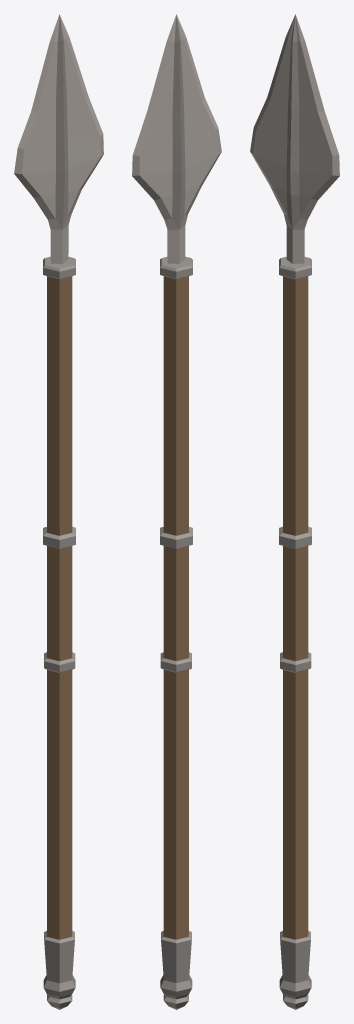
The model's file is SM_pwe_fantasy_spear_06.fbx.
3 views of the same model, side by side, from view 1: azimuth 30°, elevation 25°; view 2: azimuth 210°, elevation 25°; view 3: azimuth 330°, elevation 25° (orthographic).
Parts seen in each view (by area): view 1: SM_pwe_fantasy_spear_06; view 2: SM_pwe_fantasy_spear_06; view 3: SM_pwe_fantasy_spear_06.
Part boxes in pixels (x1,y1,x2,y2): SM_pwe_fantasy_spear_06: (14, 14, 103, 1009); SM_pwe_fantasy_spear_06: (132, 14, 221, 1009); SM_pwe_fantasy_spear_06: (250, 14, 339, 1009).
Bounding box in the file's own units: 18.83 × 199 × 6.
